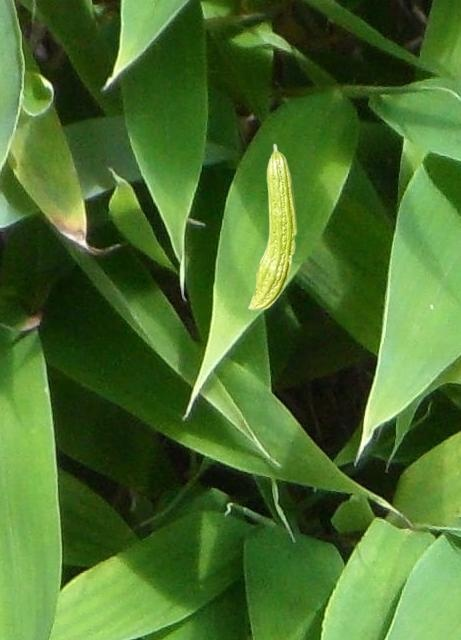ampalaya: (247, 143, 297, 312)
